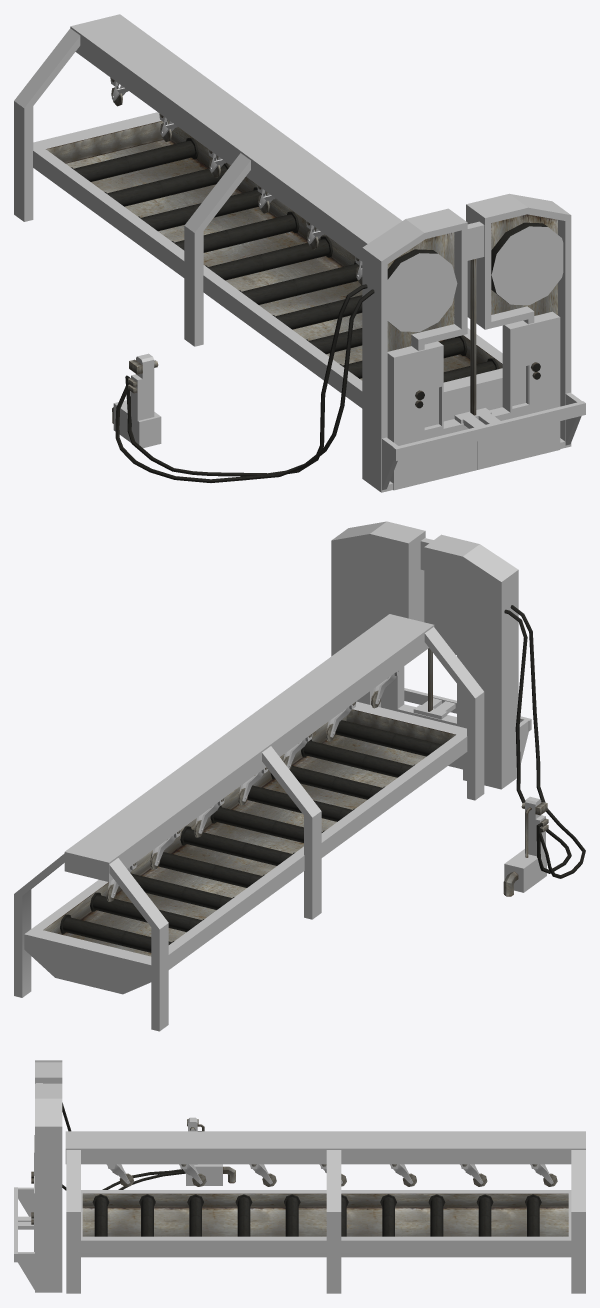
Rendered from SM_Machine_01.FBX.
3 renders of one model, top to bottom at view 1: azimuth 30°, elevation 25°; view 2: azimuth 150°, elevation 25°; view 3: azimuth 270°, elevation 25°, orthographic. The views are drawn at different scales.
Parts seen in each view (by area): view 1: SM_Machine_01; view 2: SM_Machine_01; view 3: SM_Machine_01.
Part boxes in pixels (x1,y1,x2,y2): SM_Machine_01: [14, 14, 585, 492]; SM_Machine_01: [14, 521, 585, 1031]; SM_Machine_01: [14, 1060, 585, 1293].
Bounding box in the file's own units: 4.59 × 3.25 × 9.18.
